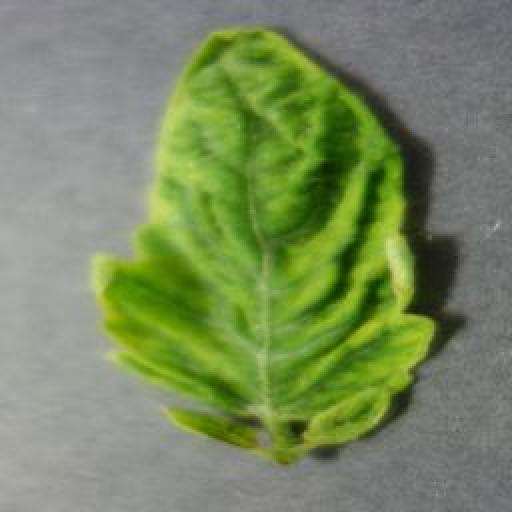Yellow Leaf Curl Virus: (95, 25, 437, 463)
